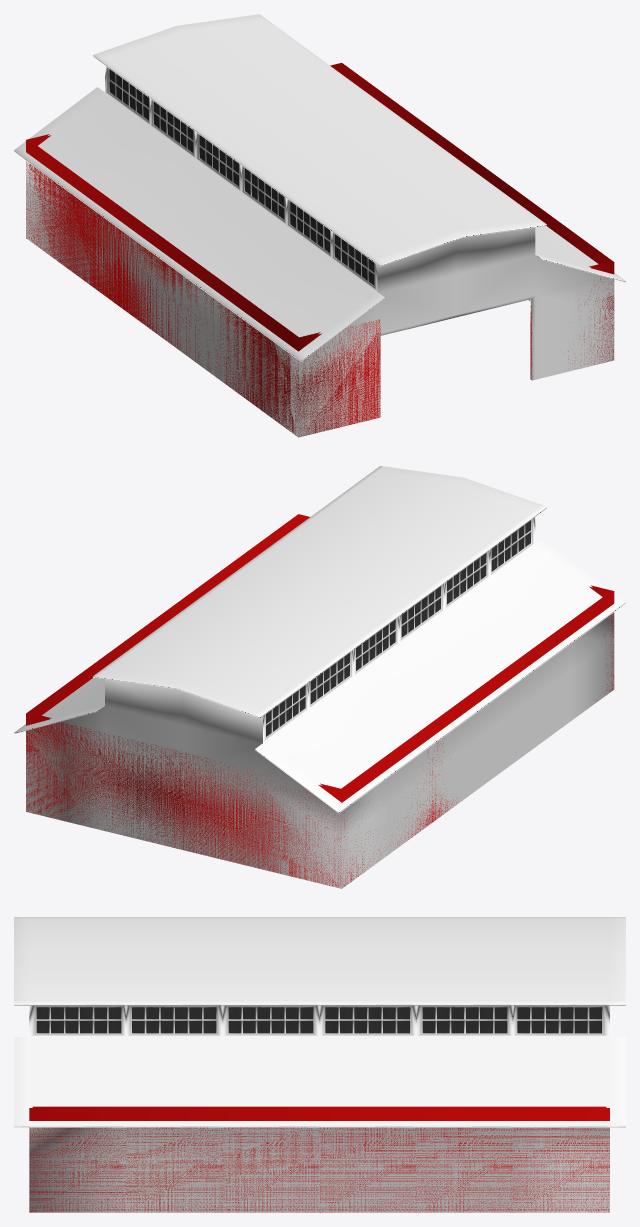
The model's file is bauernhof_geraeteschuppen_02.fbx.
3 views of the same model, one above another, from view 1: azimuth 30°, elevation 25°; view 2: azimuth 150°, elevation 25°; view 3: azimuth 270°, elevation 25° (orthographic). The views are drawn at different scales.
Visible parts, largest first — view 1: schuppen, colmesh_schuppen; view 2: schuppen, colmesh_schuppen; view 3: schuppen, colmesh_schuppen.
Boxes of the visible parts, x1,y1,x2,y2 form: schuppen: [14, 14, 625, 437]; colmesh_schuppen: [26, 63, 614, 436]; schuppen: [14, 466, 625, 888]; colmesh_schuppen: [26, 514, 614, 888]; schuppen: [14, 917, 625, 1212]; colmesh_schuppen: [29, 1106, 609, 1212].
Bounding box in the file's own units: 1702 × 842 × 2605.
